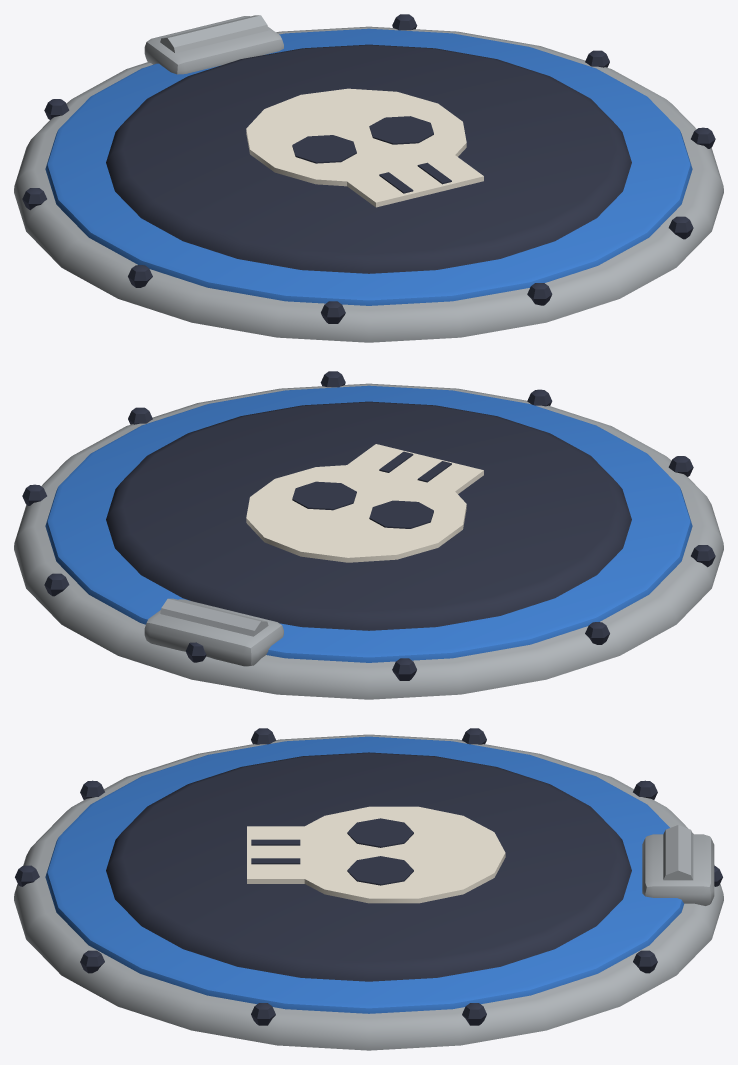
Rendered from SpawnHatch.fbx.
3 views of the same model, one above another, from view 1: azimuth 30°, elevation 25°; view 2: azimuth 150°, elevation 25°; view 3: azimuth 270°, elevation 25° (orthographic).
Parts seen in each view (by area): view 1: SpawnHatch; view 2: SpawnHatch; view 3: SpawnHatch.
Part boxes in pixels (x1,y1,x2,y2): SpawnHatch: [14, 14, 723, 342]; SpawnHatch: [14, 371, 723, 699]; SpawnHatch: [14, 728, 723, 1050].
Size of the model in its own units: 1.97 by 0.17 by 1.97.
